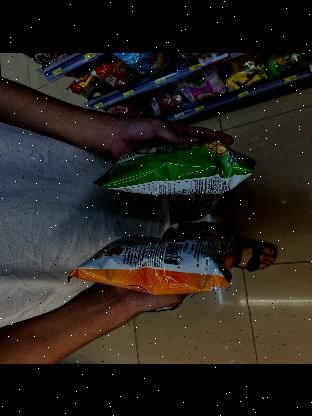Others: (57, 220, 245, 308), (93, 128, 257, 202)
